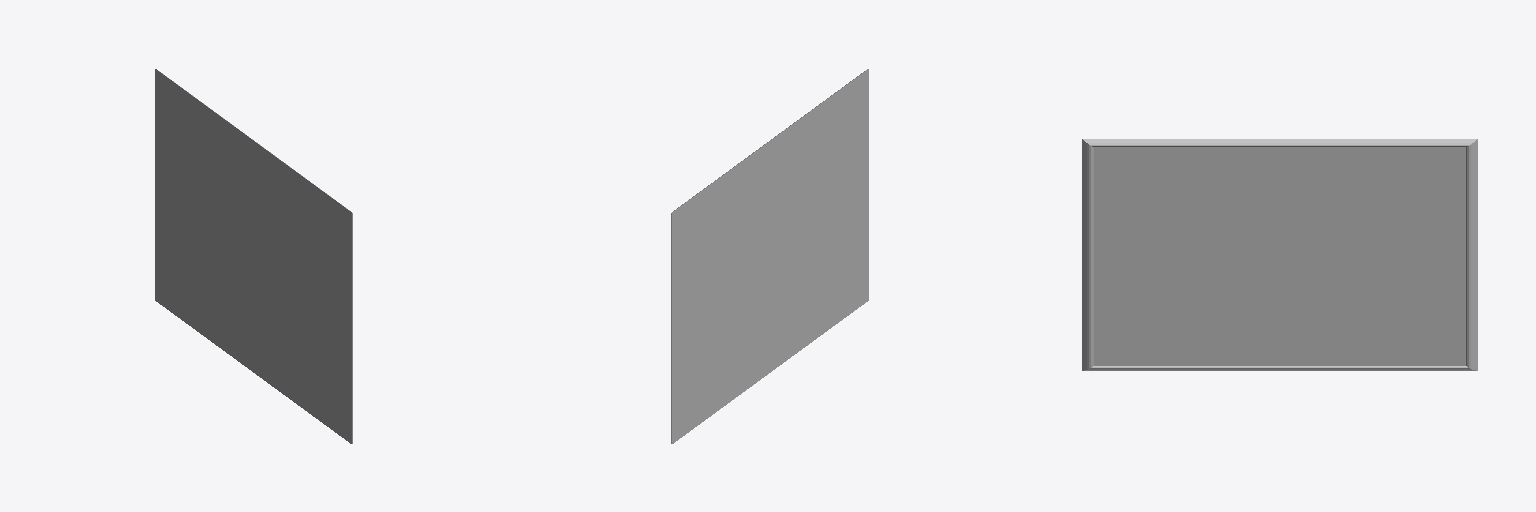
File: painting1.obj
3 renders of one model, left to right at view 1: azimuth 30°, elevation 25°; view 2: azimuth 150°, elevation 25°; view 3: azimuth 270°, elevation 25°, orthographic.
Visible parts, largest first — view 1: Plane; view 2: Plane; view 3: Plane.
Boxes of the visible parts, box(x1,y1,x2,y2) form: Plane: box(155, 69, 352, 443); Plane: box(671, 69, 868, 443); Plane: box(1082, 139, 1477, 370).
Size of the model in its own units: 0.0208 by 0.9542 by 1.47.